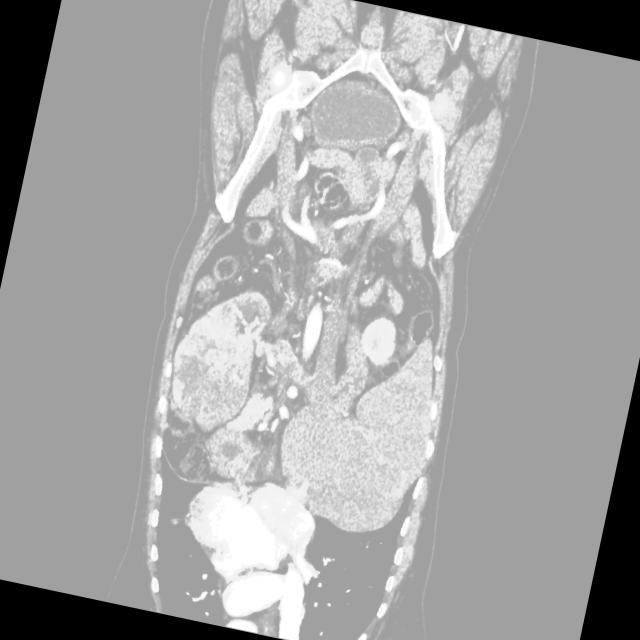TUMOR: (159, 228, 516, 437)
